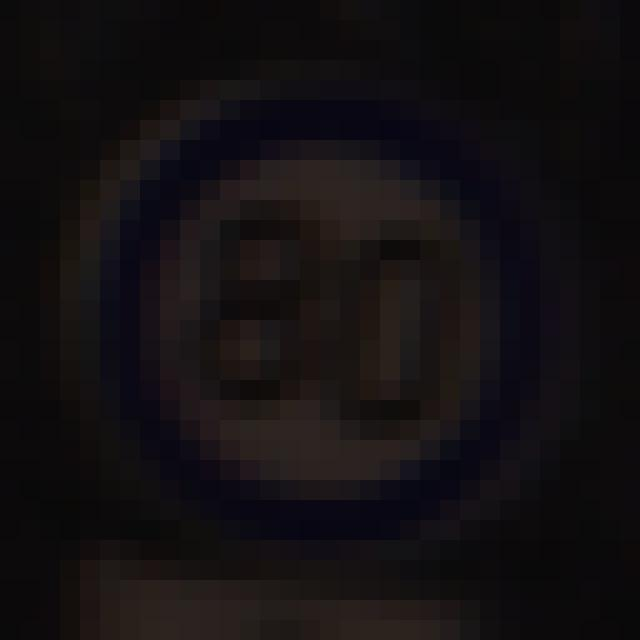SPEED-LIMIT-80: (67, 77, 570, 547)
